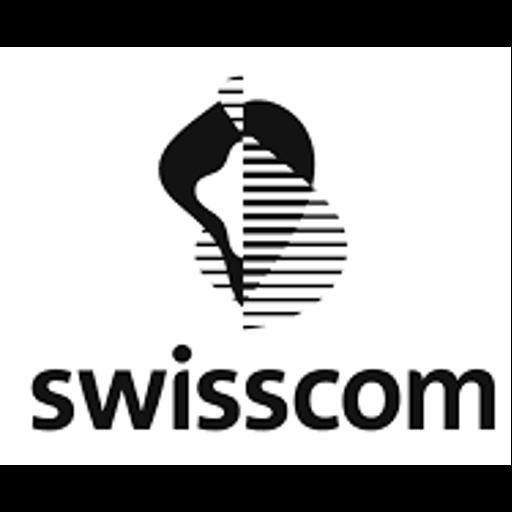Swisscom IT Services AG: (0, 47, 511, 465)
